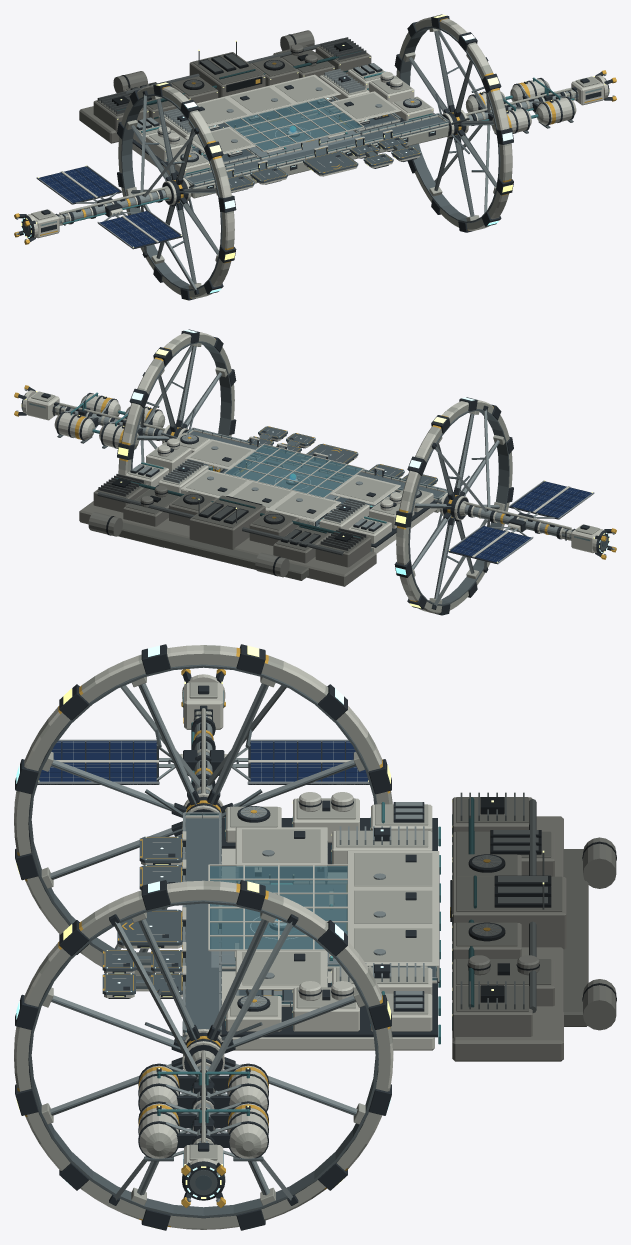
The model's file is polisar_station.glb.
3 views of the same model, one above another, from view 1: azimuth 30°, elevation 25°; view 2: azimuth 150°, elevation 25°; view 3: azimuth 270°, elevation 25° (orthographic). The views are drawn at different scales.
Parts seen in each view (by area): view 1: Ring_Links, Ring_Rechts, Heck_Dekoration, Struktur_Innenbereich, Daecher, Technik_Seiten, Solarfluegel_Links, Pads, Achse, Treibstofftanks_Rechts, Grossschiff_Docks; view 2: Heck_Dekoration, Ring_Links, Daecher, Ring_Rechts, Struktur_Innenbereich, Technik_Seiten, Solarfluegel_Links, Treibstofftanks_Rechts, Achse, Grossschiff_Docks, Pads; view 3: Heck_Dekoration, Ring_Rechts, Daecher, Ring_Links, Struktur_Innenbereich, Technik_Seiten, Treibstofftanks_Rechts, Solarfluegel_Links, Pads, Grossschiff_Docks, Achse.
Part boxes in pixels (left/top/right/bottom): Ring_Links: left=117, top=82, right=236, bottom=300; Ring_Rechts: left=394, top=14, right=513, bottom=232; Heck_Dekoration: left=79, top=30, right=371, bottom=143; Struktur_Innenbereich: left=132, top=96, right=449, bottom=198; Daecher: left=185, top=74, right=400, bottom=154; Technik_Seiten: left=133, top=63, right=433, bottom=174; Solarfluegel_Links: left=36, top=165, right=183, bottom=249; Pads: left=228, top=136, right=421, bottom=192; Achse: left=55, top=87, right=578, bottom=224; Treibstofftanks_Rechts: left=465, top=77, right=576, bottom=134; Grossschiff_Docks: left=14, top=70, right=616, bottom=244; Heck_Dekoration: left=79, top=474, right=376, bottom=586; Ring_Links: left=394, top=397, right=513, bottom=615; Daecher: left=181, top=439, right=400, bottom=521; Ring_Rechts: left=117, top=329, right=236, bottom=547; Struktur_Innenbereich: left=155, top=427, right=447, bottom=553; Technik_Seiten: left=125, top=432, right=433, bottom=543; Solarfluegel_Links: left=447, top=480, right=594, bottom=564; Treibstofftanks_Rechts: left=54, top=392, right=165, bottom=449; Achse: left=52, top=402, right=575, bottom=539; Grossschiff_Docks: left=14, top=385, right=616, bottom=559; Pads: left=246, top=426, right=437, bottom=486; Heck_Dekoration: left=450, top=792, right=616, bottom=1061; Ring_Rechts: left=14, top=880, right=393, bottom=1230; Daecher: left=208, top=827, right=439, bottom=989; Ring_Links: left=14, top=644, right=392, bottom=975; Struktur_Innenbereich: left=136, top=812, right=440, bottom=1050; Technik_Seiten: left=225, top=792, right=432, bottom=1031; Treibstofftanks_Rechts: left=138, top=1063, right=268, bottom=1161; Solarfluegel_Links: left=37, top=739, right=369, bottom=784; Pads: left=102, top=836, right=182, bottom=998; Grossschiff_Docks: left=181, top=669, right=225, bottom=1207; Achse: left=182, top=705, right=224, bottom=1144.
Bounding box in the file's own units: 213 × 68 × 108.
